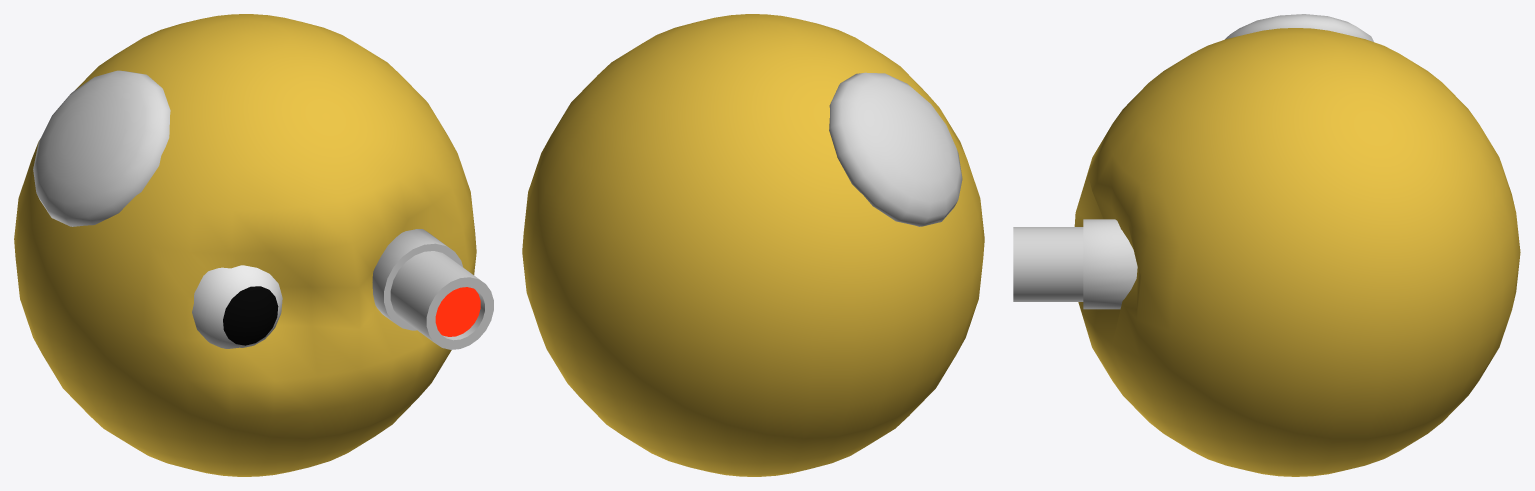
Rendered from Kolobok.fbx.
3 renders of one model, left to right at view 1: azimuth 30°, elevation 25°; view 2: azimuth 150°, elevation 25°; view 3: azimuth 270°, elevation 25°, orthographic. The views are drawn at different scales.
Visible parts, largest first — view 1: kolobok; view 2: kolobok; view 3: kolobok.
Boxes of the visible parts, bbox=[...] form: kolobok: bbox=[14, 14, 493, 476]; kolobok: bbox=[522, 14, 984, 476]; kolobok: bbox=[1013, 14, 1520, 476].
Size of the model in its own units: 145 by 145 by 164.
